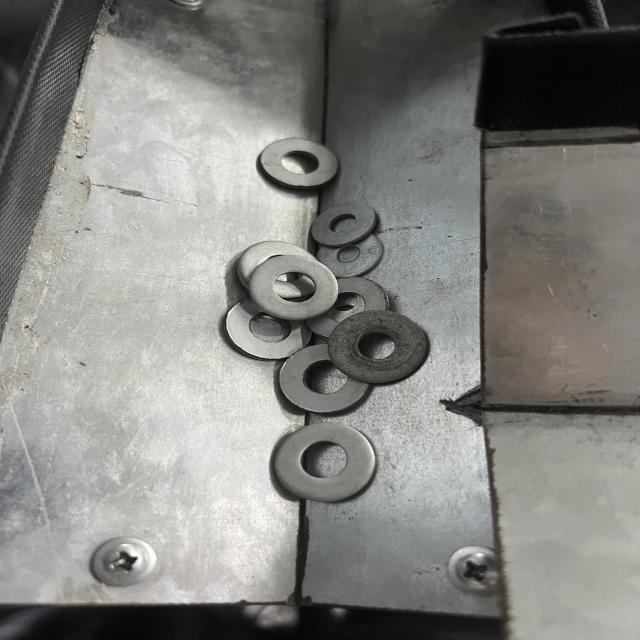washer: (272, 422, 381, 502), (327, 309, 429, 383), (250, 256, 336, 319), (259, 138, 343, 186)
